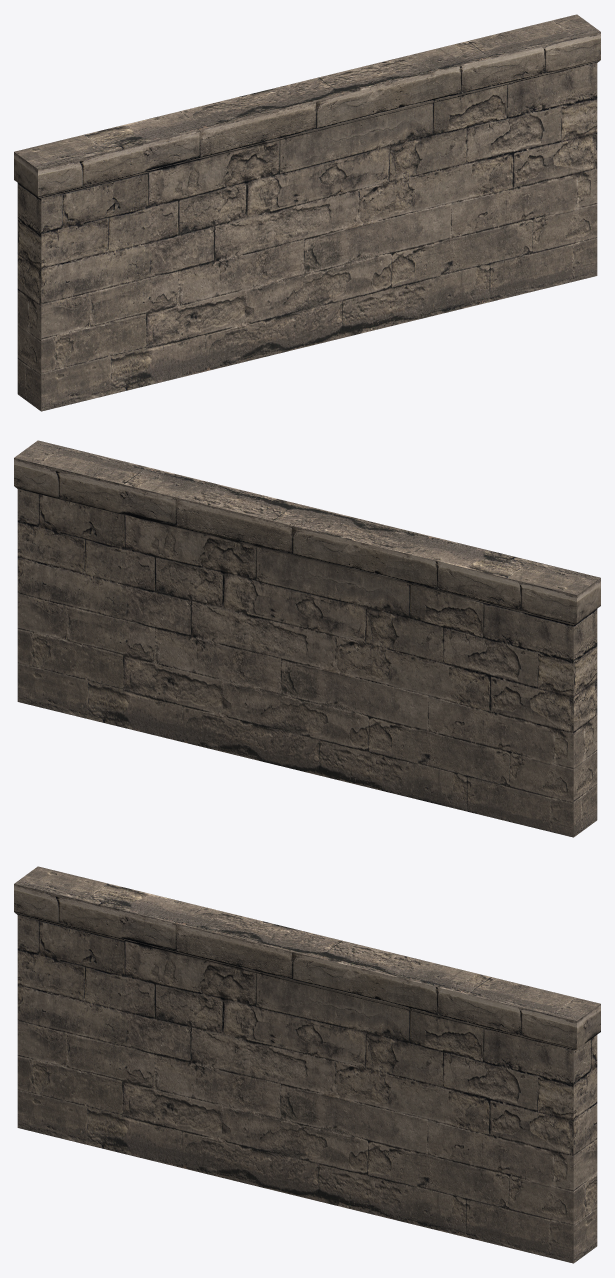
The model's file is stone wall.FBX.
3 views of the same model, one above another, from view 1: azimuth 30°, elevation 25°; view 2: azimuth 150°, elevation 25°; view 3: azimuth 330°, elevation 25° (orthographic).
Visible parts, largest first — view 1: Cube; view 2: Cube; view 3: Cube.
Part boxes in pixels (x1,y1,x2,y2): Cube: (14, 14, 600, 411); Cube: (14, 440, 600, 837); Cube: (14, 866, 600, 1263).
Size of the model in its own units: 14130 by 5834 by 1040.
Materials: 1 (1 with a texture image).
